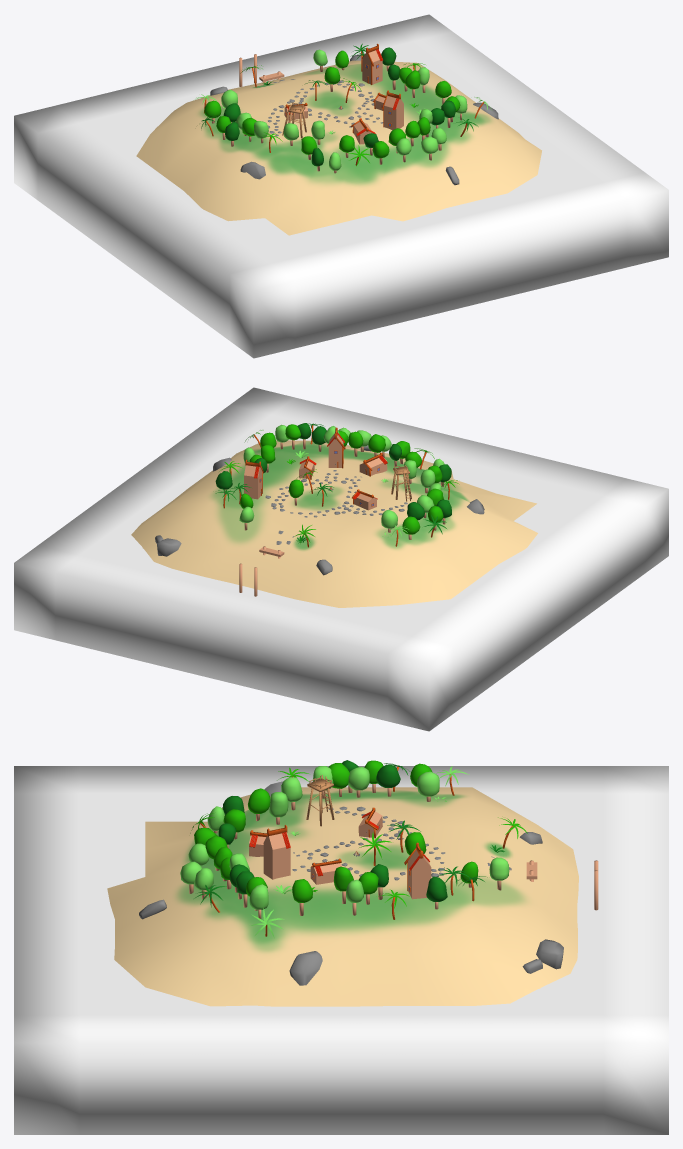
The model's file is Island10.glb.
3 renders of one model, top to bottom at view 1: azimuth 30°, elevation 25°; view 2: azimuth 150°, elevation 25°; view 3: azimuth 270°, elevation 25°, orthographic. The views are drawn at different scales.
Visible parts, largest first — view 1: Cube, Cube.001, Cube.121, Cube.110; view 2: Cube, Cube.001, Cube.110; view 3: Cube, Cube.001, Cube.121, Cube.110, Cube.009, Cube.003.
Boxes of the visible parts, left/top/right/bottom form: Cube: left=14, top=14, right=668, bottom=358; Cube.001: left=136, top=60, right=541, bottom=235; Cube.121: left=384, top=96, right=403, bottom=129; Cube.110: left=362, top=50, right=382, bottom=84; Cube: left=14, top=387, right=668, bottom=731; Cube.001: left=131, top=440, right=537, bottom=607; Cube.110: left=244, top=465, right=262, bottom=499; Cube: left=14, top=766, right=668, bottom=1134; Cube.001: left=107, top=787, right=578, bottom=1006; Cube.121: left=263, top=832, right=290, bottom=879; Cube.110: left=408, top=850, right=431, bottom=899; Cube.009: left=289, top=951, right=322, bottom=985; Cube.003: left=536, top=939, right=563, bottom=969.
Size of what is drawn, in the model's own units: 2 by 0.6403 by 2.
Materials: 12 (1 with a texture image).
